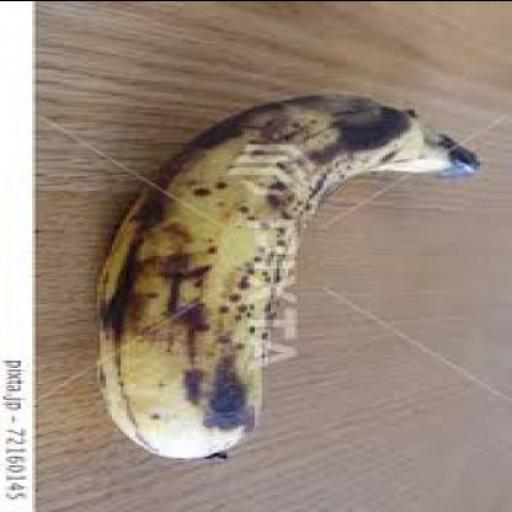biodegradable: (100, 92, 482, 457)
